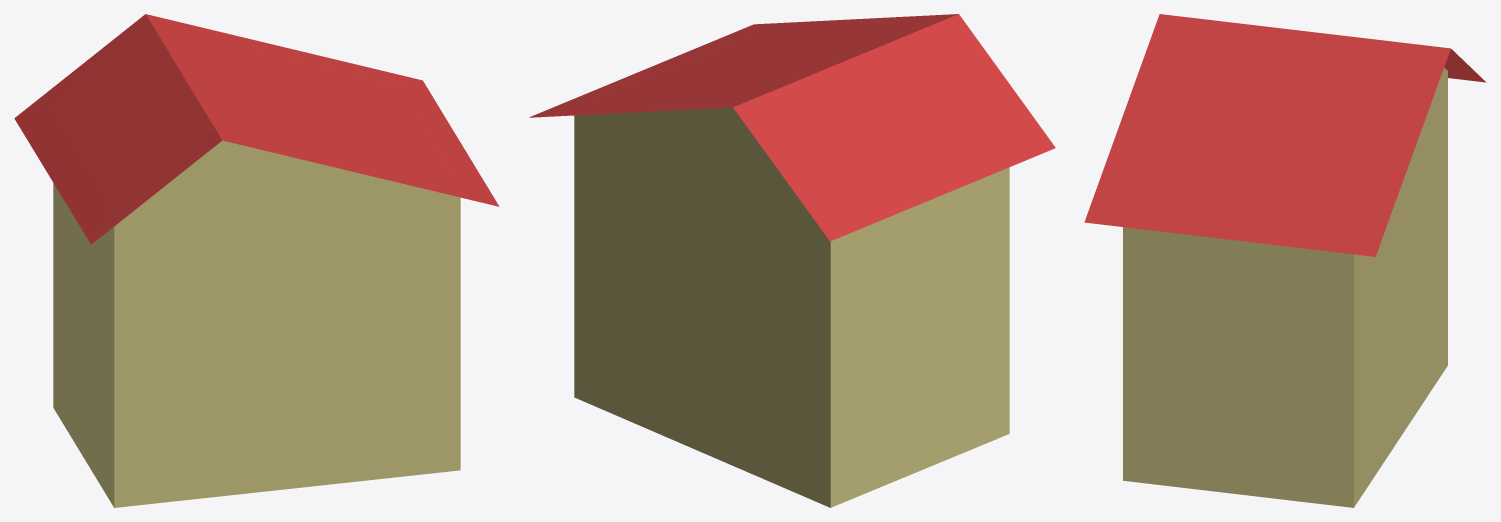
The picture shows the model from 3 angles, left to right: view 1: azimuth 30°, elevation 25°; view 2: azimuth 150°, elevation 25°; view 3: azimuth 270°, elevation 25°; orthographic projection. The views are drawn at different scales.
Size of the model in its own units: 7.62 by 6.4 by 6.35.
